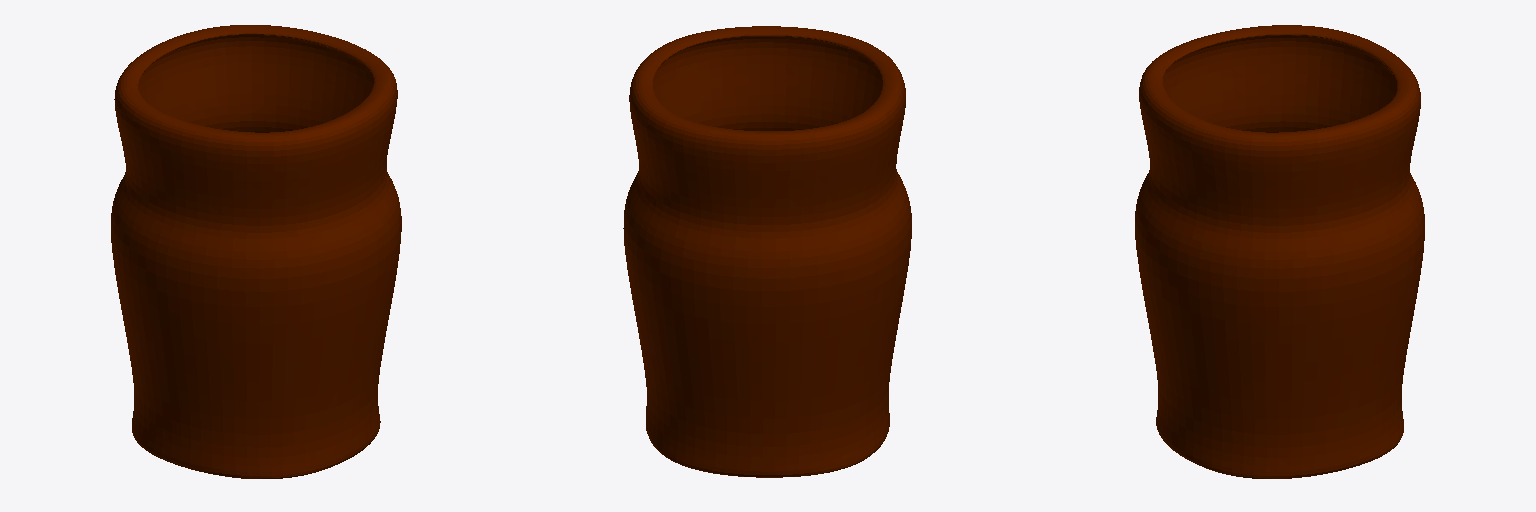
The model's file is Pottery1.obj.
3 views of the same model, side by side, from view 1: azimuth 30°, elevation 25°; view 2: azimuth 150°, elevation 25°; view 3: azimuth 270°, elevation 25° (orthographic).
Visible parts, largest first — view 1: Cube_053; view 2: Cube_053; view 3: Cube_053.
Boxes of the visible parts, box(x1,y1,x2,y2) form: Cube_053: box(111, 25, 401, 478); Cube_053: box(623, 26, 911, 477); Cube_053: box(1135, 25, 1424, 478).
Bounding box in the file's own units: 0.095 × 0.1266 × 0.095.